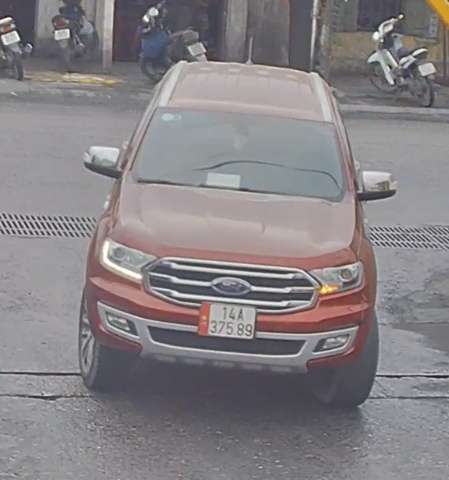vehicle plate: (199, 298, 257, 339)
